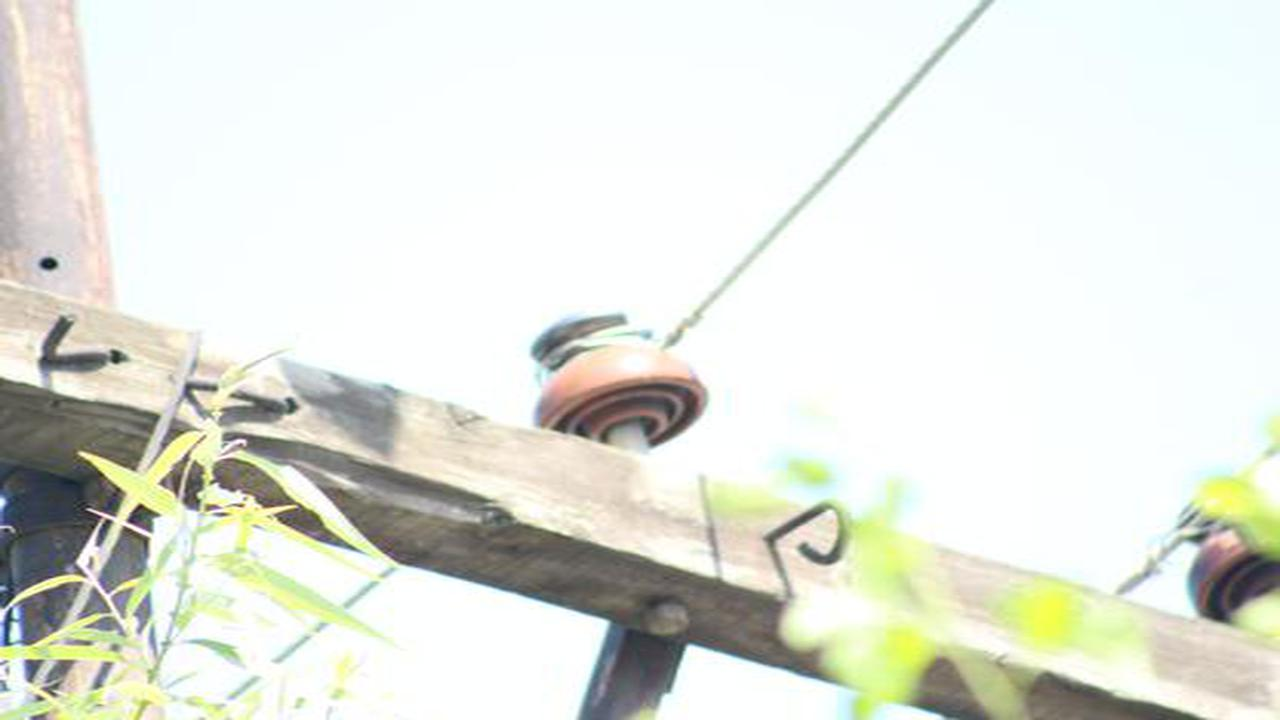insulator_pin: (526, 304, 713, 444)
